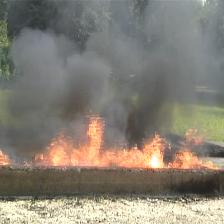fire: (34, 113, 166, 169), (168, 128, 224, 170), (0, 149, 10, 166)
